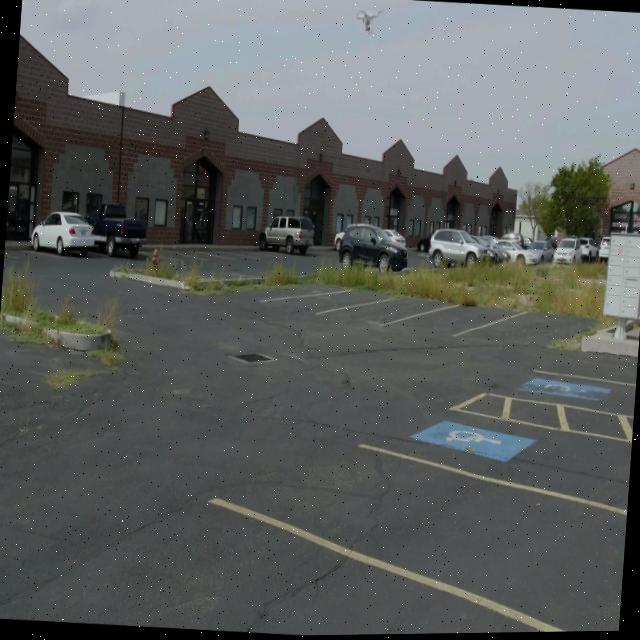drone: (356, 5, 382, 35)
